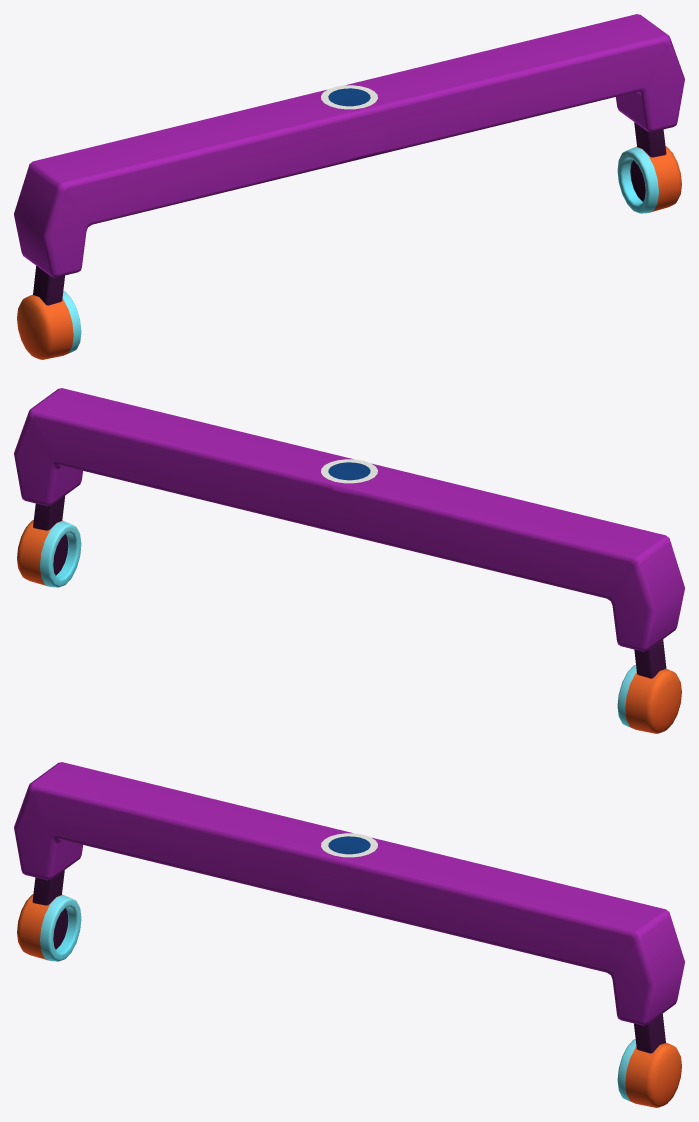
3 renders of one model, top to bottom at view 1: azimuth 30°, elevation 25°; view 2: azimuth 150°, elevation 25°; view 3: azimuth 330°, elevation 25°, orthographic.
Visible parts, largest first — view 1: shape2_6, top_cycle; view 2: shape2_6, top_cycle; view 3: shape2_6, top_cycle.
Part boxes in pixels (x1,y1,x2,y2): shape2_6: (14, 14, 684, 359); top_cycle: (321, 85, 377, 109); shape2_6: (14, 388, 684, 733); top_cycle: (321, 459, 377, 483); shape2_6: (14, 762, 684, 1107); top_cycle: (321, 833, 377, 857).
Bounding box in the file's own units: 54.94 × 15.06 × 5.
